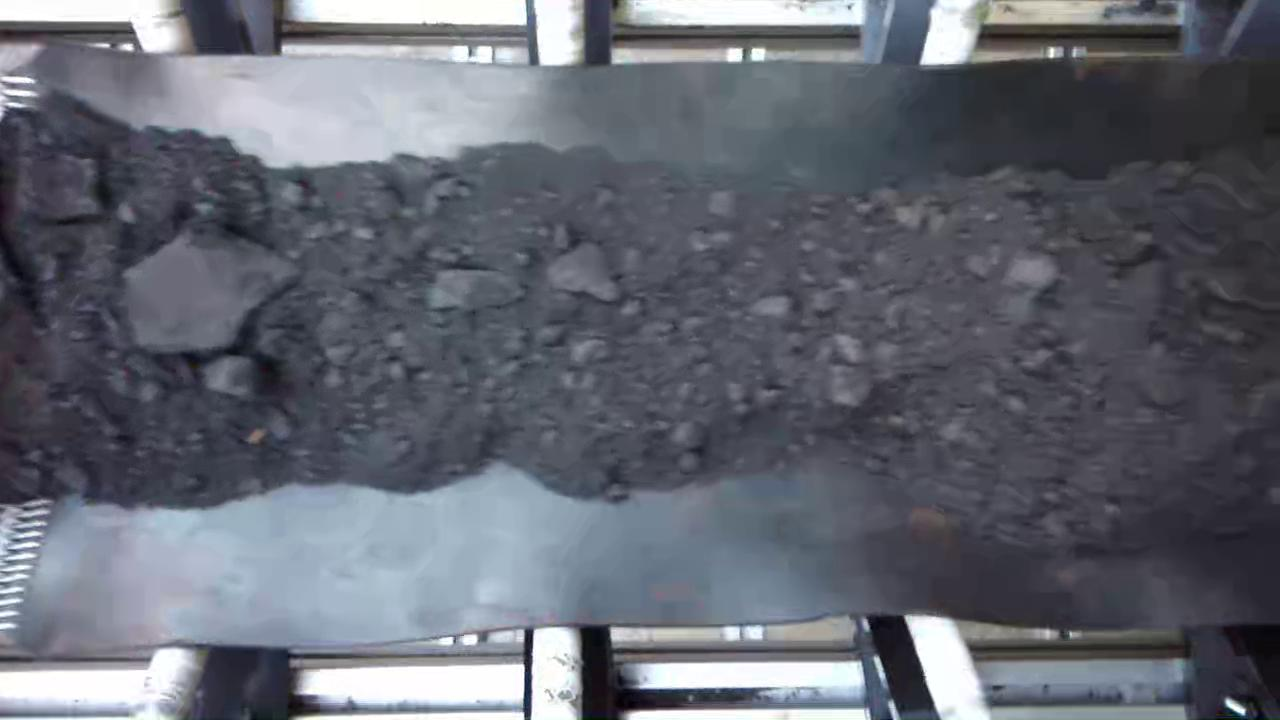conveyor: (4, 63, 1276, 610)
